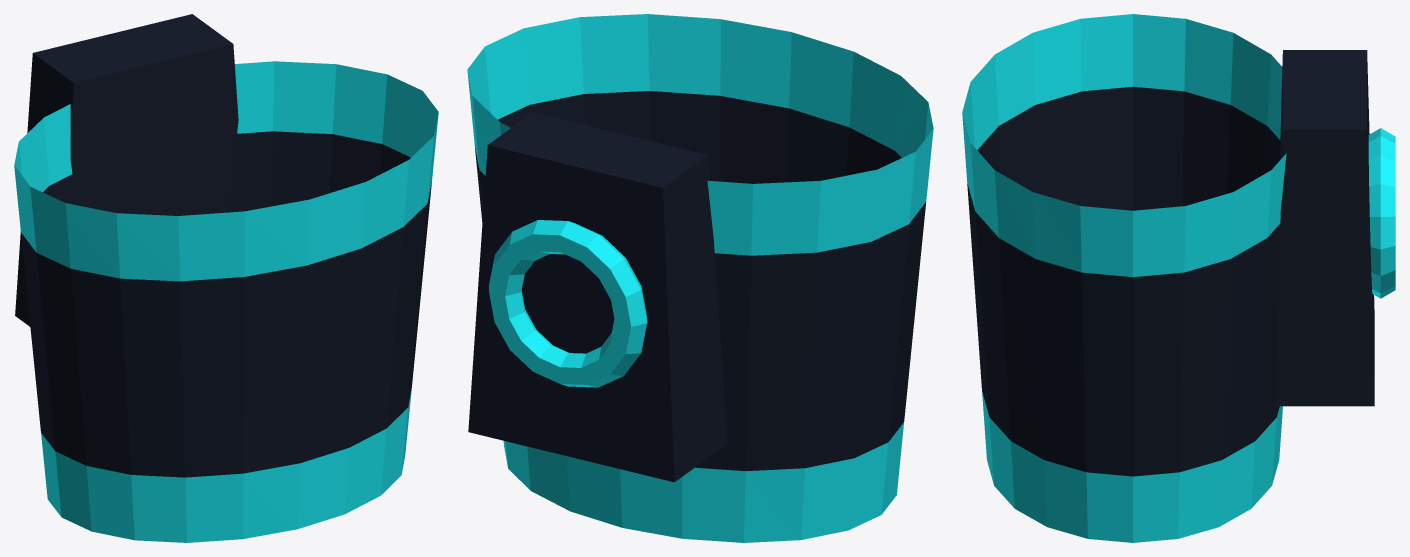
File: Skin_CyberJetpack.obj
3 views of the same model, side by side, from view 1: azimuth 30°, elevation 25°; view 2: azimuth 150°, elevation 25°; view 3: azimuth 270°, elevation 25° (orthographic). The views are drawn at different scales.
Visible parts, largest first — view 1: Skin_CyberJetpack_BaseArmor, Skin_CyberJetpack_EmissiveCore; view 2: Skin_CyberJetpack_BaseArmor, Skin_CyberJetpack_EmissiveCore; view 3: Skin_CyberJetpack_BaseArmor, Skin_CyberJetpack_EmissiveCore.
Part boxes in pixels (x1,y1,x2,y2): Skin_CyberJetpack_BaseArmor: (15,14,431,477); Skin_CyberJetpack_EmissiveCore: (14,61,438,542); Skin_CyberJetpack_BaseArmor: (468,91,926,482); Skin_CyberJetpack_EmissiveCore: (467,14,933,542); Skin_CyberJetpack_BaseArmor: (967,50,1374,476); Skin_CyberJetpack_EmissiveCore: (962,14,1395,542).
Bounding box in the file's own units: 0.376 × 0.33 × 0.3501.
